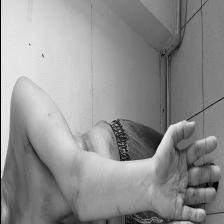DA: (64, 150, 86, 220)
